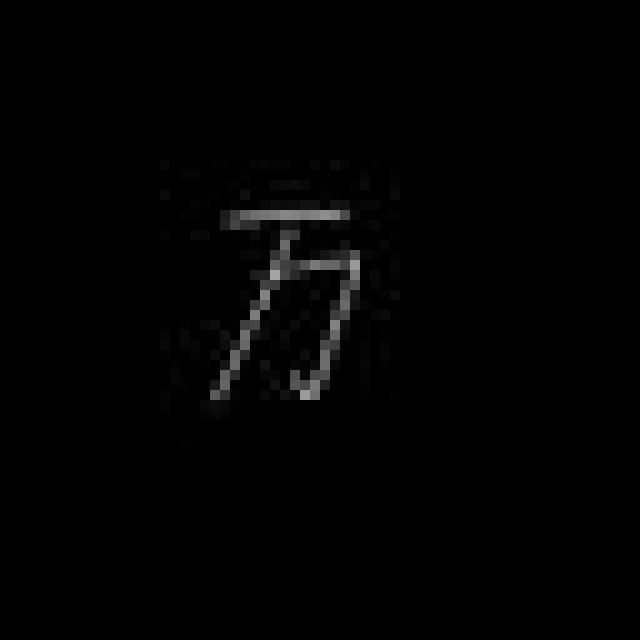10000 -a ten thousand-: (186, 188, 369, 421)
